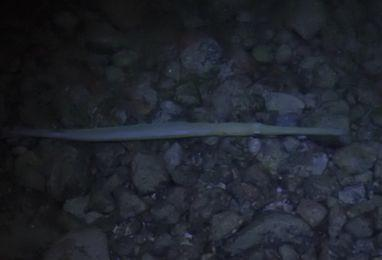Fistularia commersonii: (22, 99, 363, 156)
